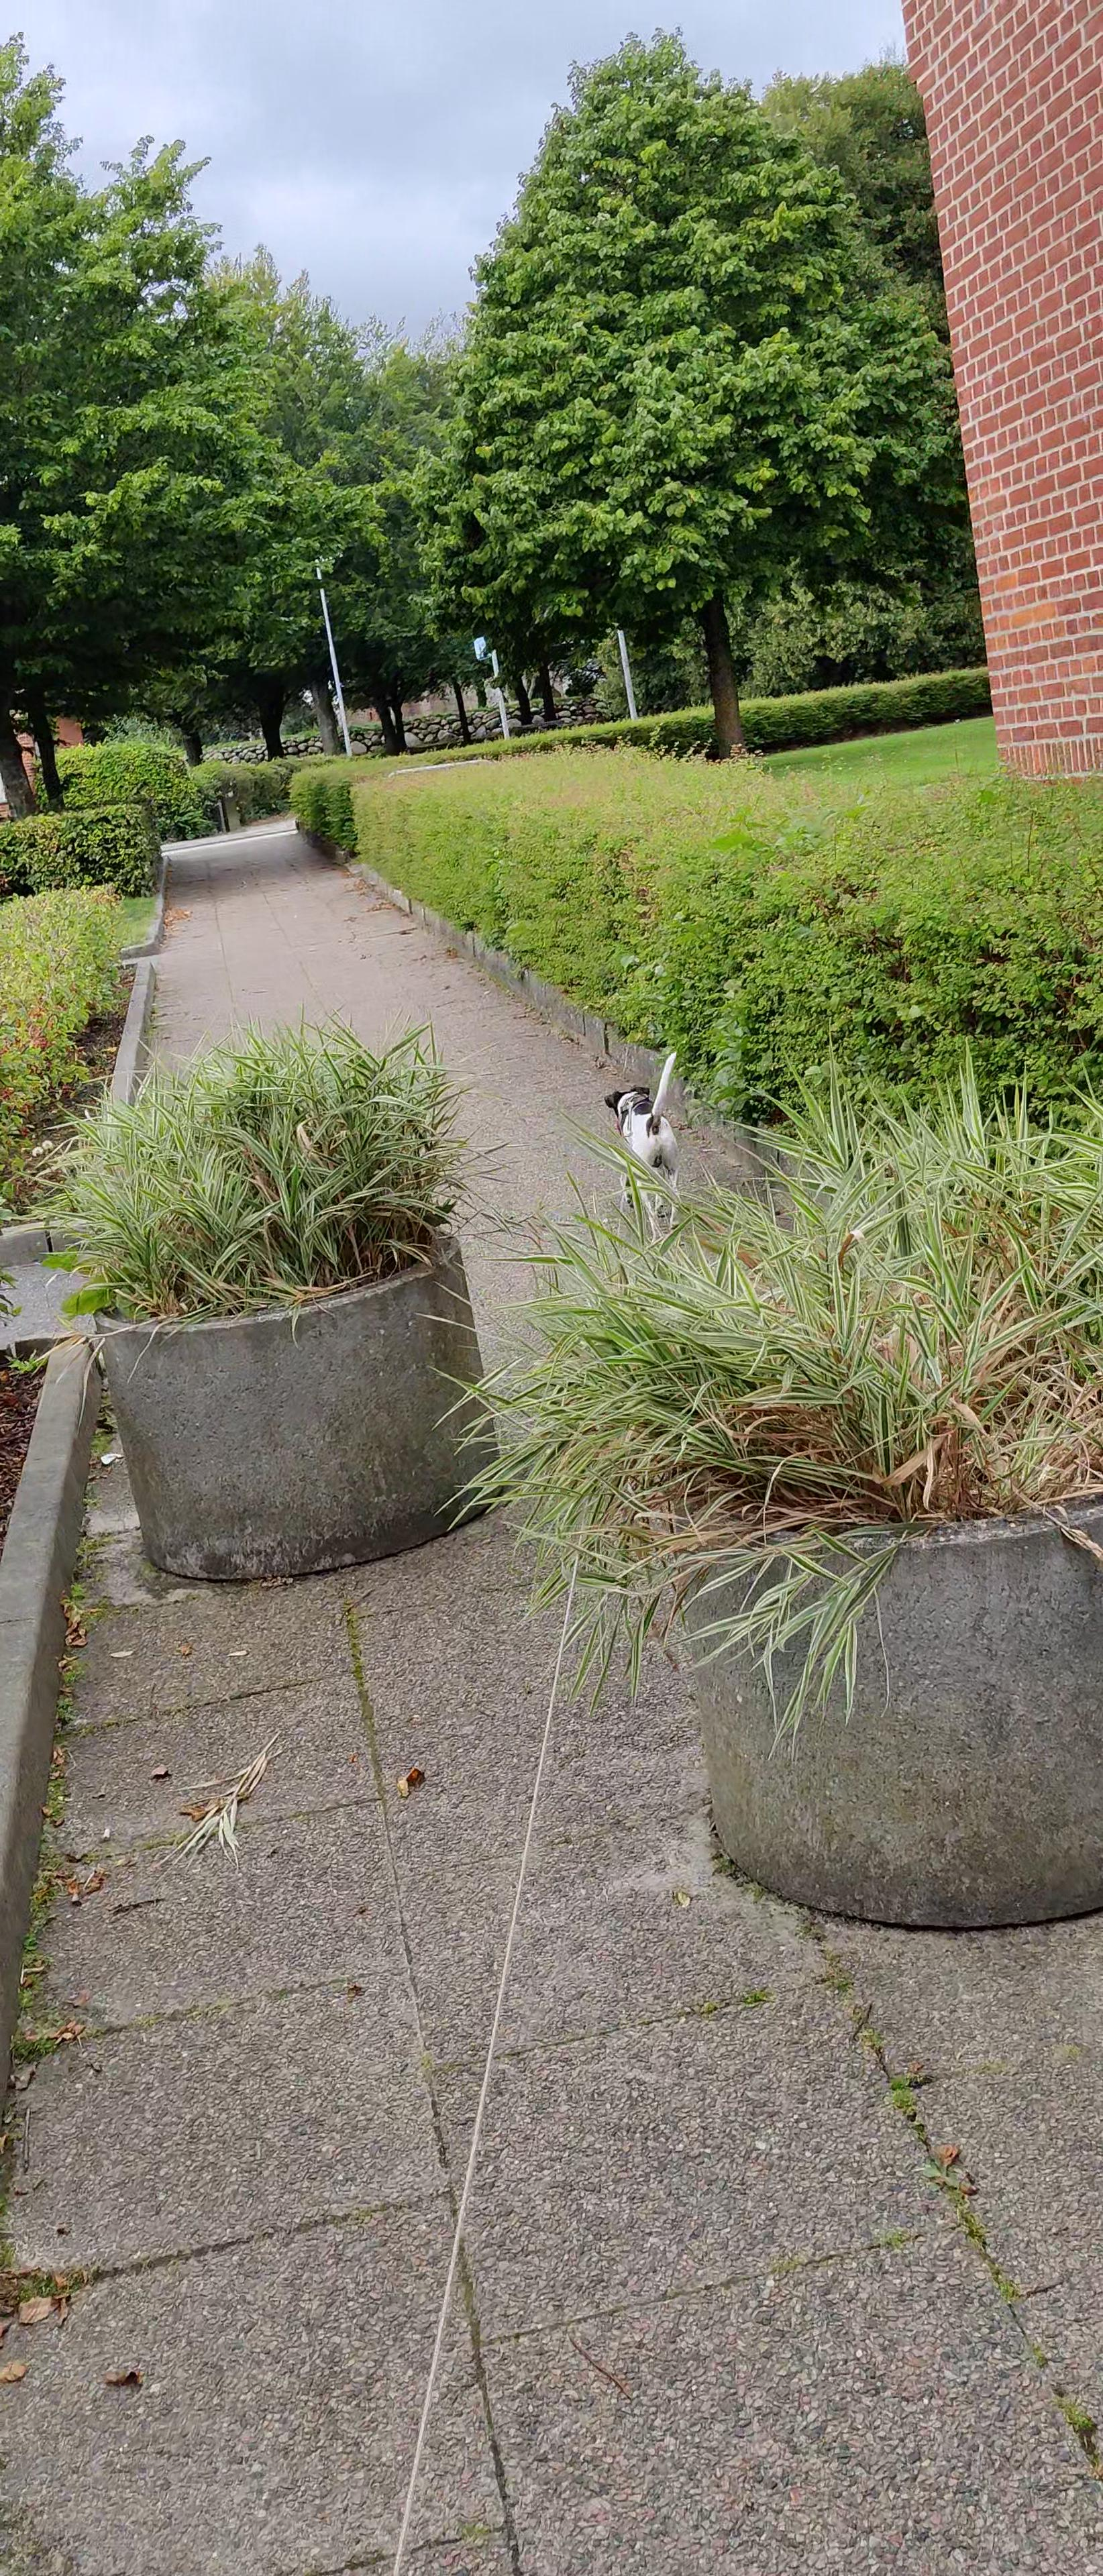Dog: (603, 1050, 690, 1250)
